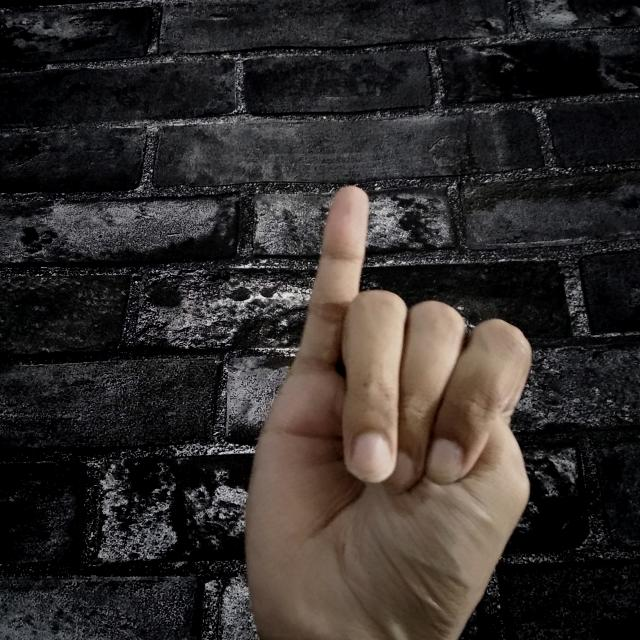I: (238, 182, 532, 640)
